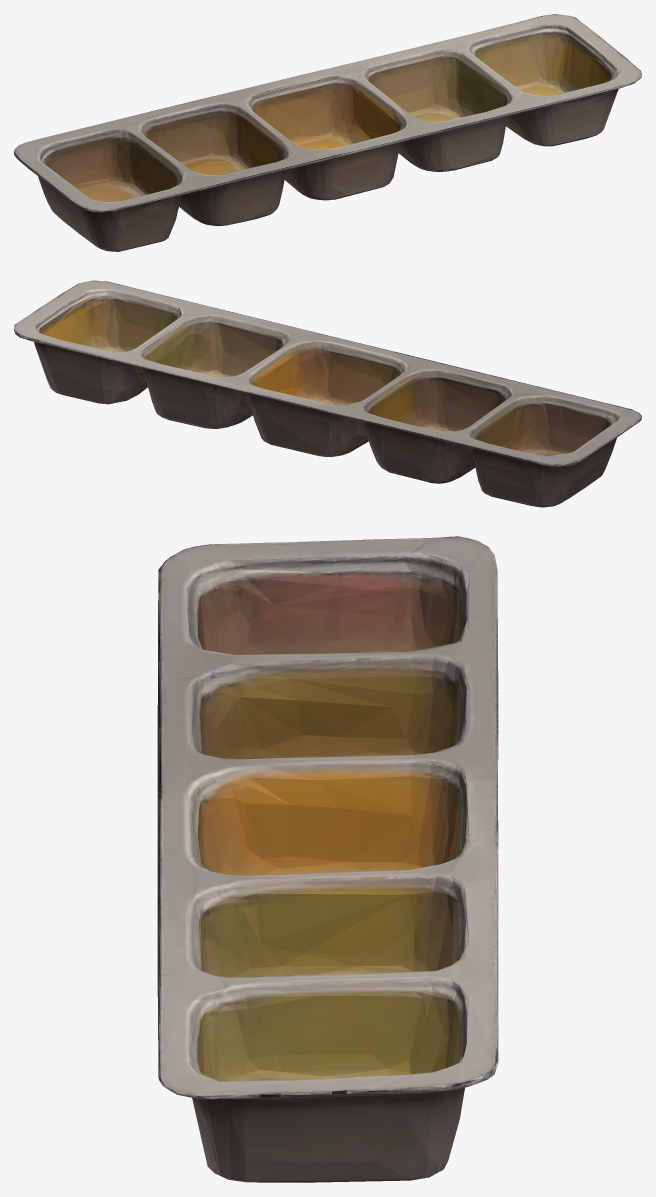
Rendered from serving_tray_5_compartment.glb.
3 views of the same model, one above another, from view 1: azimuth 30°, elevation 25°; view 2: azimuth 150°, elevation 25°; view 3: azimuth 270°, elevation 25° (orthographic). The views are drawn at different scales.
Visible parts, largest first — view 1: geometry_0; view 2: geometry_0; view 3: geometry_0.
Part boxes in pixels (x1,y1,x2,y2): geometry_0: (14,14,641,251); geometry_0: (14,280,641,507); geometry_0: (157,536,498,1182).
Bounding box in the file's own units: 1 × 0.1089 × 0.2624.
Materials: 1 (1 with a texture image).
